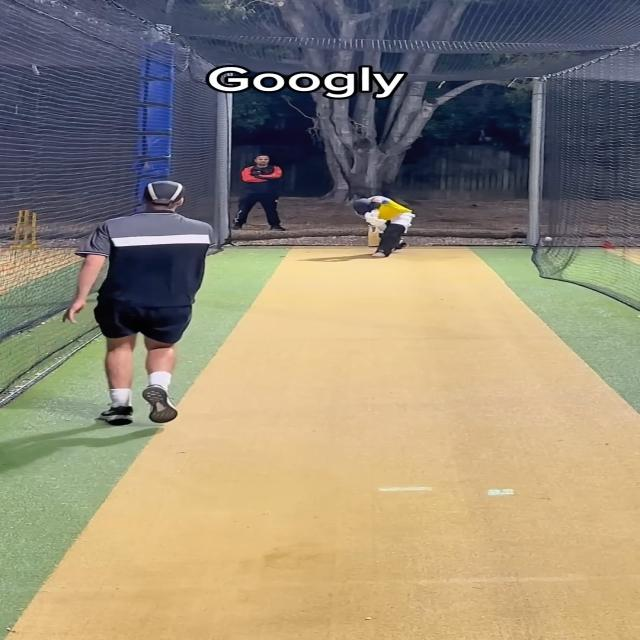Cricket ball: (544, 236, 553, 242)
